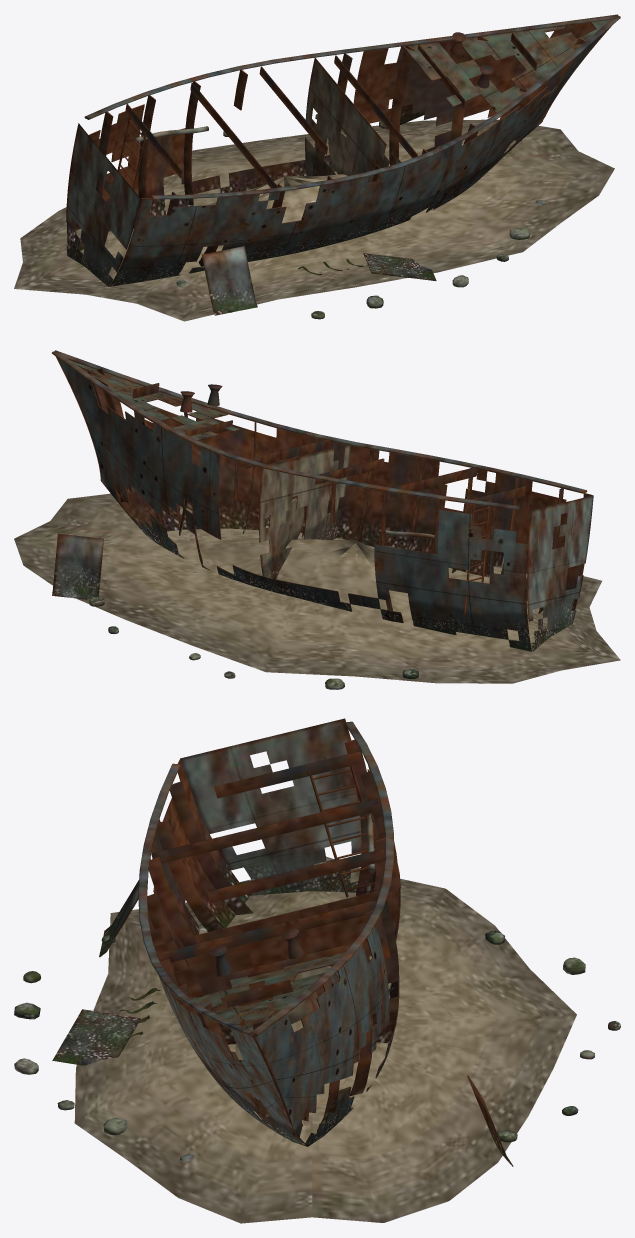
The model's file is kit_relic_hull_hero.glb.
3 views of the same model, one above another, from view 1: azimuth 30°, elevation 25°; view 2: azimuth 150°, elevation 25°; view 3: azimuth 270°, elevation 25° (orthographic). The views are drawn at different scales.
Visible parts, largest first — view 1: hull, body, plate_1, plate_2, hatch; view 2: hull, body, plate_3, hatch; view 3: body, hull, plate_2, hatch, plate_1.
Boxes of the visible parts, left/top/right/bottom form: hull: left=66, top=14, right=620, bottom=286; body: left=14, top=114, right=614, bottom=321; plate_1: left=201, top=246, right=257, bottom=315; plate_2: left=363, top=253, right=436, bottom=280; hatch: left=328, top=131, right=354, bottom=175; hull: left=52, top=350, right=593, bottom=651; body: left=14, top=493, right=620, bottom=689; plate_3: left=52, top=533, right=103, bottom=599; hatch: left=280, top=498, right=304, bottom=549; body: left=14, top=856, right=620, bottom=1223; hull: left=138, top=718, right=401, bottom=1146; plate_2: left=52, top=1009, right=140, bottom=1065; hatch: left=272, top=966, right=339, bottom=1023; plate_1: left=99, top=880, right=138, bottom=957.
Size of what is drawn, in the model's own units: 12.02 by 3.34 by 8.16.
Materials: 2 (2 with a texture image).
